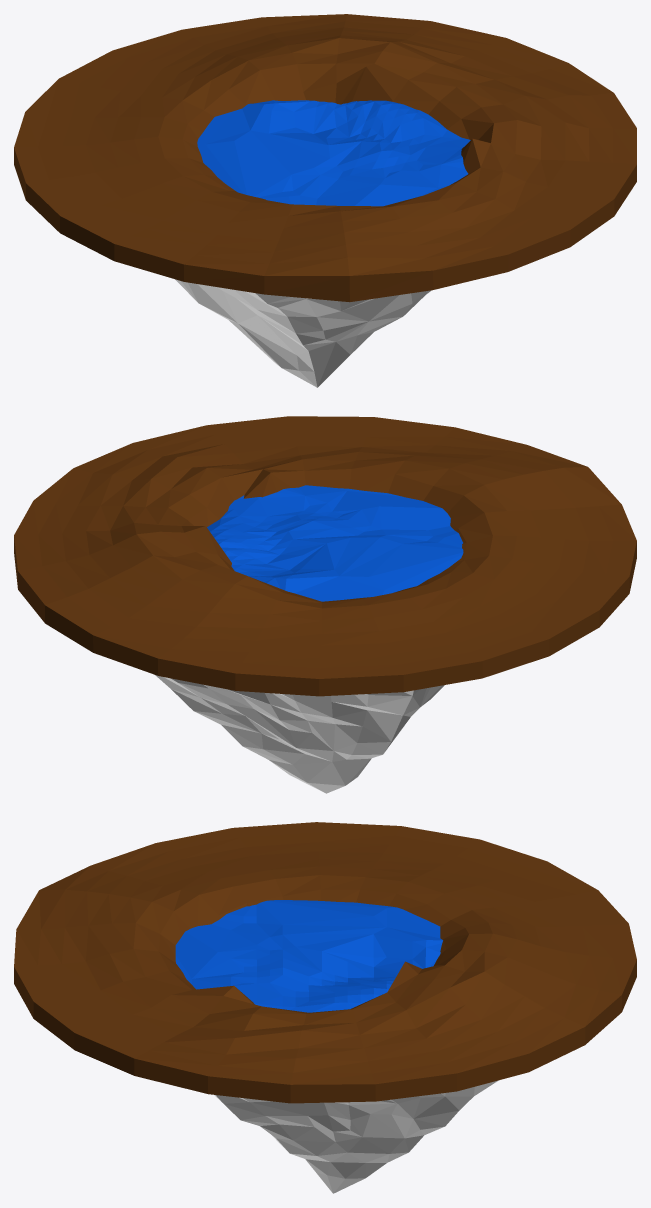
File: floating island with lake.FBX
The picture shows the model from 3 angles, top to bottom: view 1: azimuth 30°, elevation 25°; view 2: azimuth 150°, elevation 25°; view 3: azimuth 270°, elevation 25°; orthographic projection.
Visible parts, largest first — view 1: Cylinder003; view 2: Cylinder003; view 3: Cylinder003.
Boxes of the visible parts, x1,y1,x2,y2 form: Cylinder003: (14,14,636,387); Cylinder003: (14,416,636,793); Cylinder003: (14,822,636,1193).
Bounding box in the file's own units: 319 × 155 × 319.
